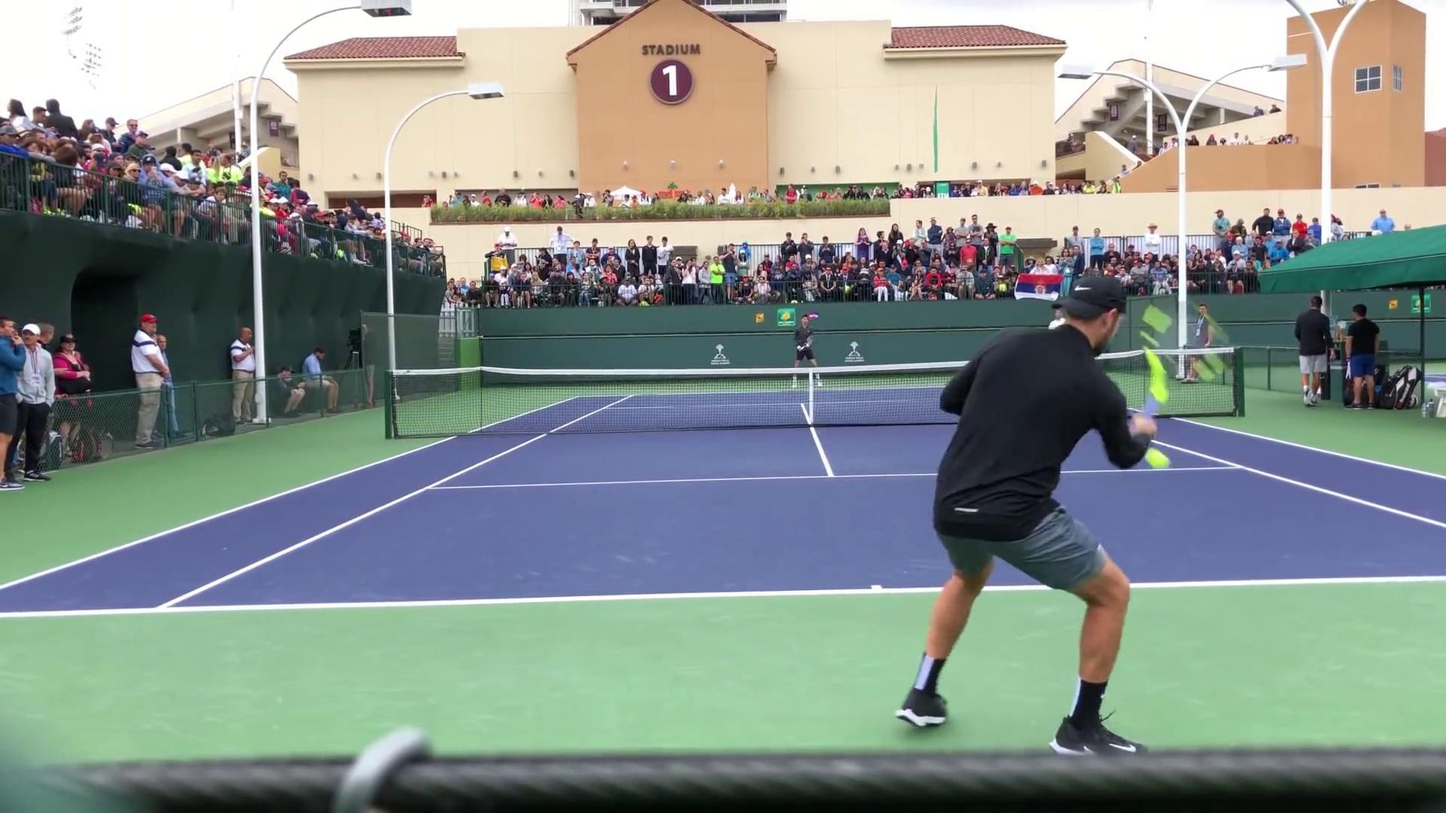ball: (1143, 448, 1171, 473)
